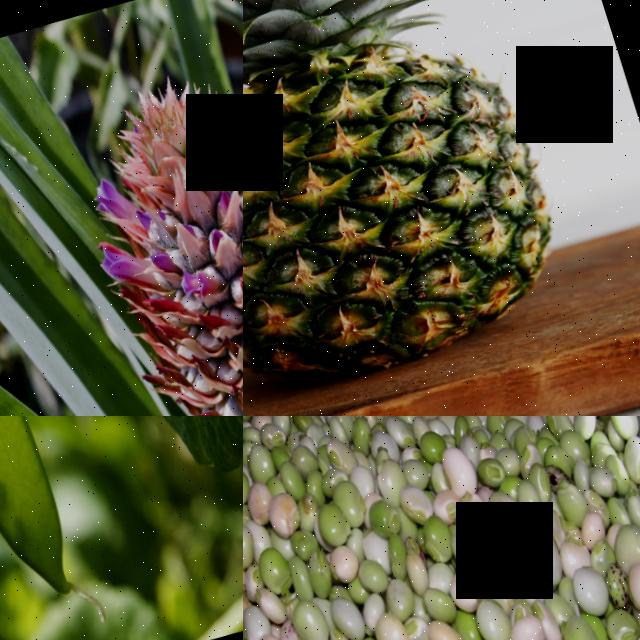peas: (243, 416, 640, 640)
pineapple: (243, 0, 602, 416)
